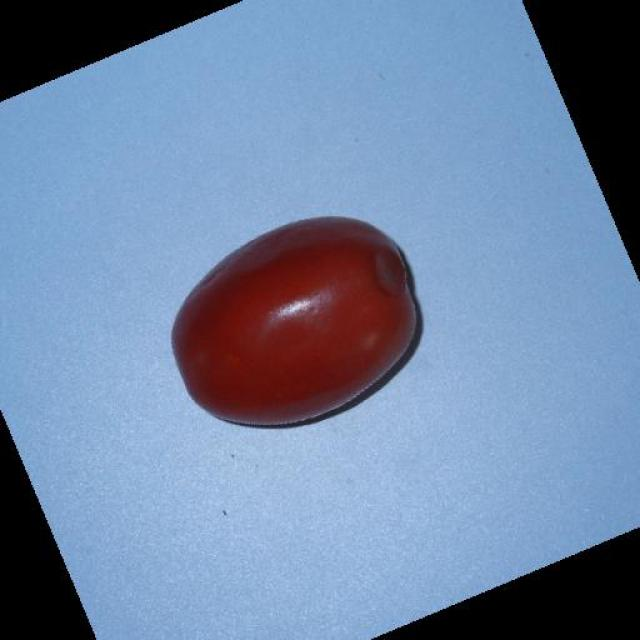Stale_tomato: (157, 222, 454, 430)
